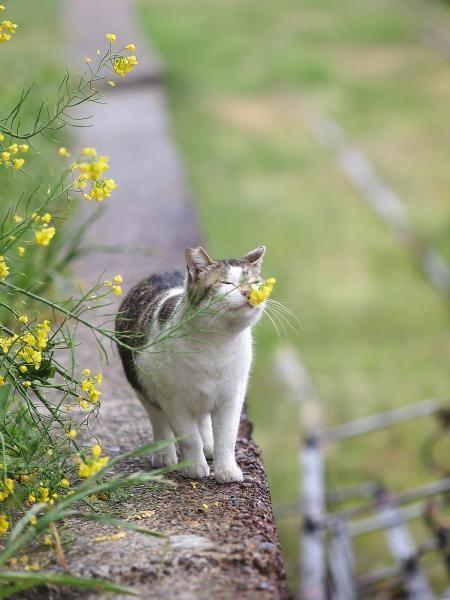kedo: (117, 245, 268, 481)
